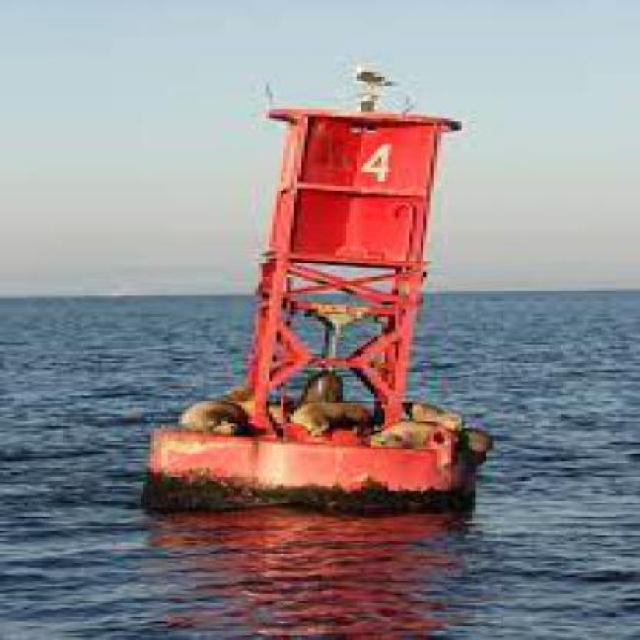buoy: (127, 60, 504, 523)
